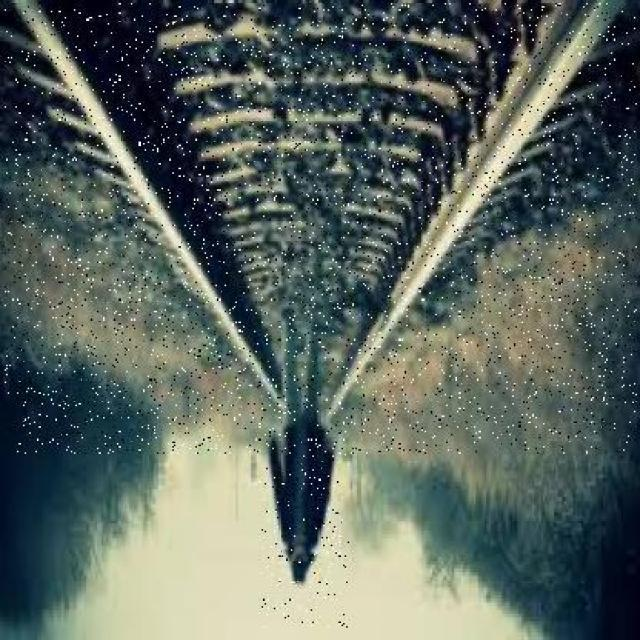danger: (258, 298, 349, 628)
rail: (5, 3, 636, 453)
